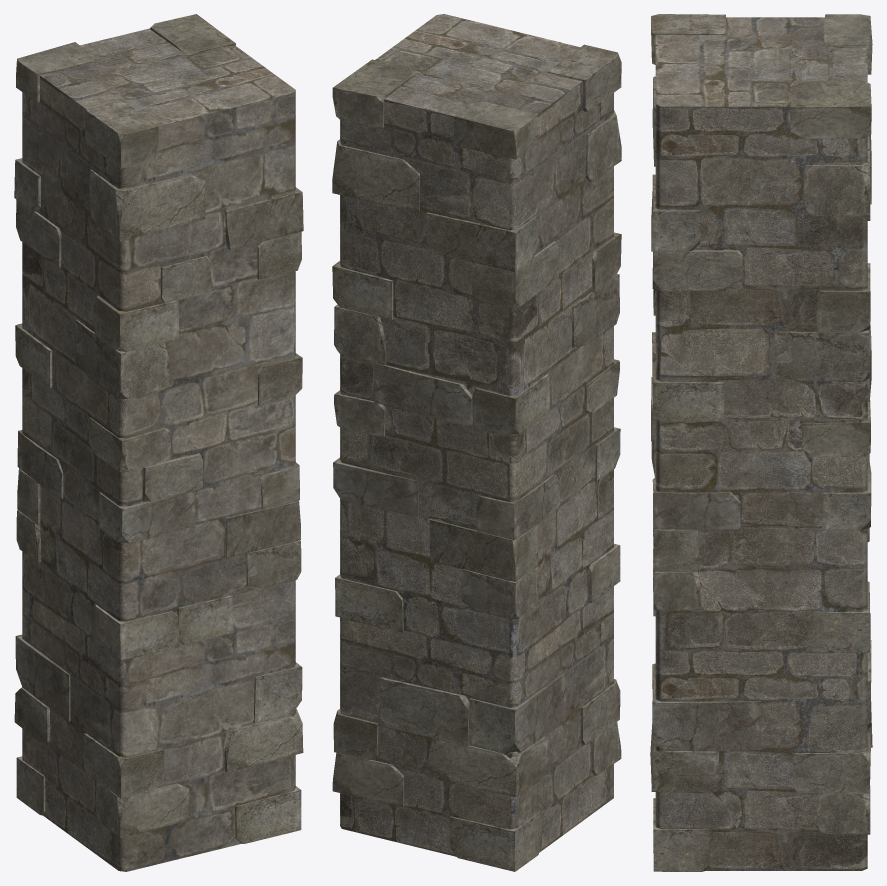
Rendered from SM_Brick_Column_01.fbx.
The picture shows the model from 3 angles, left to right: view 1: azimuth 30°, elevation 25°; view 2: azimuth 150°, elevation 25°; view 3: azimuth 270°, elevation 25°; orthographic projection. The views are drawn at different scales.
Visible parts, largest first — view 1: SM_Brick_Column_01_LOD0; view 2: SM_Brick_Column_01_LOD0; view 3: SM_Brick_Column_01_LOD0.
Boxes of the visible parts, x1,y1,x2,y2 form: SM_Brick_Column_01_LOD0: (14,14,303,871); SM_Brick_Column_01_LOD0: (332,14,621,871); SM_Brick_Column_01_LOD0: (650,14,872,871).
Size of what is drawn, in the model's own units: 156 by 603 by 158.
2 materials, 2 textured.
